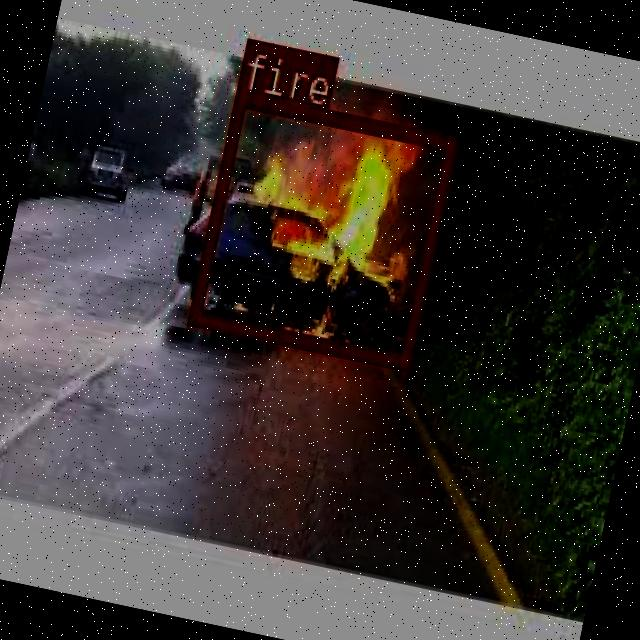fire: (185, 88, 456, 367)
